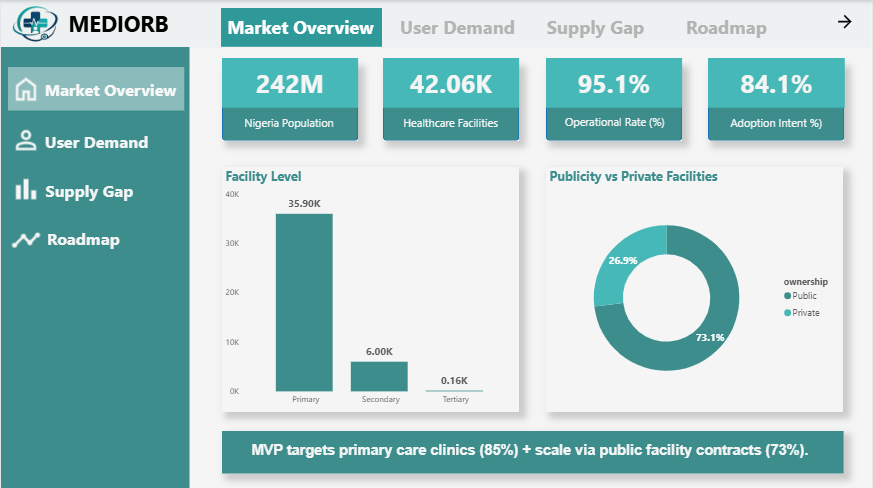

Layout of this report page (visuals, bound fields, positions):
{"tool":"powerbi","page":{"name":"Page 1","canvas":[1280,720],"ordinal":0},"visuals":[{"type":"shape","title":"PI_Header","box":[0,0,1279.3,70.1],"z":0,"group":"g6"},{"type":"shape","title":"P1_Navigation","box":[0,69.3,277.1,650.7],"z":0},{"type":"group","id":"g1","title":"Group 1","box":[324.7,92.6,914.2,602.8],"z":0,"group":"g2"},{"type":"shape","box":[561.4,93.2,200.2,114.4],"z":0,"group":"g1"},{"type":"card","title":"Nigeria Population","fields":{"Values":["CountNonNull(Table1 (2).uid)"]},"box":[561.3,85.2,199.8,73.5],"z":1000,"group":"g2"},{"type":"shape","box":[800.9,93.2,200.2,114.4],"z":1000,"group":"g1"},{"type":"card","title":"Nigeria Population","fields":{"Values":["Table1 (2).Operational Rate"]},"box":[800.8,85.2,199.8,73.5],"z":2000,"group":"g2"},{"type":"shape","box":[1038.7,93.2,200.2,114.4],"z":2000,"group":"g1"},{"type":"card","title":"Nigeria Population","fields":{"Values":["Table1.Adoption Intent %"]},"box":[1038.8,85.2,201.3,73.5],"z":3000,"group":"g2"},{"type":"shape","box":[324.8,92.6,200.2,114.4],"z":3000,"group":"g1"},{"type":"card","title":"Nigeria Population","fields":{"Values":["Sum(state_population_2026_lookup.Estimated_Population_2026)"]},"box":[324.7,85.2,199.8,73.5],"z":4000,"group":"g2"},{"type":"columnChart","title":"Facility Level ","fields":{"Category":["Table1 (2).facility_level"],"Y":["CountNonNull(Table1 (2).state)"]},"box":[324.7,245.2,436.8,359.7],"z":4000,"group":"g1"},{"type":"donutChart","title":"Publicity vs Private Facilities","fields":{"Y":["Sum(Table1 (2).uid)"],"Category":["Table1 (2).ownership"]},"box":[800.7,245.8,437.2,359.9],"z":5000,"group":"g1"},{"type":"textbox","title":"P1_User1","box":[570.2,16.2,201.3,52.9],"z":6000,"group":"g4"},{"type":"shape","title":"P1_CardShape","box":[325.4,632.8,913.5,62.6],"z":6000,"group":"g1"},{"type":"textbox","title":"P1_Supply1","box":[781.7,16.2,183.7,52.9],"z":7000,"group":"g4"},{"type":"textbox","title":"P1_CardText","box":[362.9,645.3,838.4,39.3],"z":7000,"group":"g1"},{"type":"textbox","title":"P1_Roadmap1","box":[980.1,16.2,171.9,52.9],"z":8000,"group":"g4"},{"type":"textbox","box":[561.3,164.5,198.4,50],"z":8000,"group":"g1"},{"type":"textbox","title":"P1_NAV_Market","box":[53.6,110.8,216.3,44.7],"z":9000},{"type":"textbox","box":[1045.8,164.4,185.9,48.3],"z":9000,"group":"g1"},{"type":"textbox","box":[813,163.7,167.5,41.1],"z":10000,"group":"g1"},{"type":"textbox","title":"P1_NAV_Roadmap","box":[60.8,328.9,121.6,53.6],"z":10000},{"type":"textbox","box":[330.9,163.9,185.1,48.5],"z":11000,"group":"g1"},{"type":"textbox","title":"P1_NAV_Supply","box":[60.8,259.2,139.4,53.6],"z":11000},{"type":"textbox","title":"P1_NAV_UserDemand","box":[57.2,185.9,166.3,53.6],"z":12000},{"type":"textbox","title":"P1_MEDIORB","box":[94,7.3,157.2,52.9],"z":13000,"group":"g6"},{"type":"image","title":"P1_ARROWICON","box":[1225.5,11.8,29.4,39.7],"z":18000,"group":"g6"},{"type":"image","title":"P1_MEDIORBICON","box":[0,2.9,105.8,61.7],"z":19000,"group":"g7"},{"type":"group","id":"g2","title":"P1_Content","box":[324.7,85.2,915.4,610.2],"z":21000},{"type":"actionButton","box":[577.5,11.8,189.6,57.3],"z":21500,"group":"g3"},{"type":"actionButton","box":[323.3,11.8,236.6,57.3],"z":22000,"group":"g3"},{"type":"actionButton","box":[781.7,10.3,183.7,57.3],"z":23000,"group":"g3"},{"type":"actionButton","box":[980.1,10.3,171.9,57.3],"z":24000,"group":"g3"},{"type":"group","id":"g3","title":"P1TOPBUTTONS","box":[323.3,10.3,828.7,58.8],"z":24001,"group":"g4"},{"type":"group","id":"g4","title":"Group 2","box":[323.3,10.3,828.7,58.8],"z":24002,"group":"g5"},{"type":"group","id":"g5","title":"Group 3","box":[321.8,10.3,830.2,58.8],"z":24003,"group":"g6"},{"type":"group","id":"g6","title":"P1_HEADER","box":[0,0,1279.3,70.1],"z":24004,"group":"g7"},{"type":"group","id":"g7","title":"Group 4","box":[0,0,1279.8,70.5],"z":24005},{"type":"textbox","title":"P1_Market1","box":[321.8,16.2,236.6,52.9],"z":24502,"group":"g5"},{"type":"actionButton","title":"Marketoverview Button","box":[10.7,98.3,259.2,64.4],"z":24505},{"type":"actionButton","title":"Userdemand Button","box":[10.7,173.4,259.2,64.4],"z":25005},{"type":"actionButton","title":"Roadmap Button","box":[10.7,320,257.4,64.4],"z":25505},{"type":"actionButton","title":"Supplygap Button","box":[10.7,244.9,257.4,64.4],"z":26005}]}

Visuals, with their boxes in screenshot pixels (x1, y1, x2, y2), scaled from the page's 1280x720 canvas onto the 873x488 screenshot:
"PI_Header" shape: {"left": 0, "top": 0, "right": 872, "bottom": 48}
"P1_Navigation" shape: {"left": 0, "top": 47, "right": 189, "bottom": 487}
"Group 1" group: {"left": 221, "top": 63, "right": 845, "bottom": 471}
shape: {"left": 383, "top": 63, "right": 519, "bottom": 141}
"Nigeria Population" card: {"left": 383, "top": 58, "right": 519, "bottom": 108}
shape: {"left": 546, "top": 63, "right": 683, "bottom": 141}
"Nigeria Population" card: {"left": 546, "top": 58, "right": 682, "bottom": 108}
shape: {"left": 708, "top": 63, "right": 845, "bottom": 141}
"Nigeria Population" card: {"left": 708, "top": 58, "right": 846, "bottom": 108}
shape: {"left": 222, "top": 63, "right": 358, "bottom": 140}
"Nigeria Population" card: {"left": 221, "top": 58, "right": 358, "bottom": 108}
"Facility Level " columnChart: {"left": 221, "top": 166, "right": 519, "bottom": 410}
"Publicity vs Private Facilities" donutChart: {"left": 546, "top": 167, "right": 844, "bottom": 411}
"P1_User1" textbox: {"left": 389, "top": 11, "right": 526, "bottom": 47}
"P1_CardShape" shape: {"left": 222, "top": 429, "right": 845, "bottom": 471}
"P1_Supply1" textbox: {"left": 533, "top": 11, "right": 658, "bottom": 47}
"P1_CardText" textbox: {"left": 248, "top": 437, "right": 819, "bottom": 464}
"P1_Roadmap1" textbox: {"left": 668, "top": 11, "right": 786, "bottom": 47}
textbox: {"left": 383, "top": 111, "right": 518, "bottom": 145}
"P1_NAV_Market" textbox: {"left": 37, "top": 75, "right": 184, "bottom": 105}
textbox: {"left": 713, "top": 111, "right": 840, "bottom": 144}
textbox: {"left": 554, "top": 111, "right": 669, "bottom": 139}
"P1_NAV_Roadmap" textbox: {"left": 41, "top": 223, "right": 124, "bottom": 259}
textbox: {"left": 226, "top": 111, "right": 352, "bottom": 144}
"P1_NAV_Supply" textbox: {"left": 41, "top": 176, "right": 137, "bottom": 212}
"P1_NAV_UserDemand" textbox: {"left": 39, "top": 126, "right": 152, "bottom": 162}
"P1_MEDIORB" textbox: {"left": 64, "top": 5, "right": 171, "bottom": 41}
"P1_ARROWICON" image: {"left": 836, "top": 8, "right": 856, "bottom": 35}
"P1_MEDIORBICON" image: {"left": 0, "top": 2, "right": 72, "bottom": 44}
"P1_Content" group: {"left": 221, "top": 58, "right": 846, "bottom": 471}
actionButton: {"left": 394, "top": 8, "right": 523, "bottom": 47}
actionButton: {"left": 221, "top": 8, "right": 382, "bottom": 47}
actionButton: {"left": 533, "top": 7, "right": 658, "bottom": 46}
actionButton: {"left": 668, "top": 7, "right": 786, "bottom": 46}
"P1TOPBUTTONS" group: {"left": 221, "top": 7, "right": 786, "bottom": 47}
"Group 2" group: {"left": 221, "top": 7, "right": 786, "bottom": 47}
"Group 3" group: {"left": 219, "top": 7, "right": 786, "bottom": 47}
"P1_HEADER" group: {"left": 0, "top": 0, "right": 872, "bottom": 48}
"Group 4" group: {"left": 0, "top": 0, "right": 872, "bottom": 48}
"P1_Market1" textbox: {"left": 219, "top": 11, "right": 381, "bottom": 47}
"Marketoverview Button" actionButton: {"left": 7, "top": 67, "right": 184, "bottom": 110}
"Userdemand Button" actionButton: {"left": 7, "top": 118, "right": 184, "bottom": 161}
"Roadmap Button" actionButton: {"left": 7, "top": 217, "right": 183, "bottom": 261}
"Supplygap Button" actionButton: {"left": 7, "top": 166, "right": 183, "bottom": 210}
